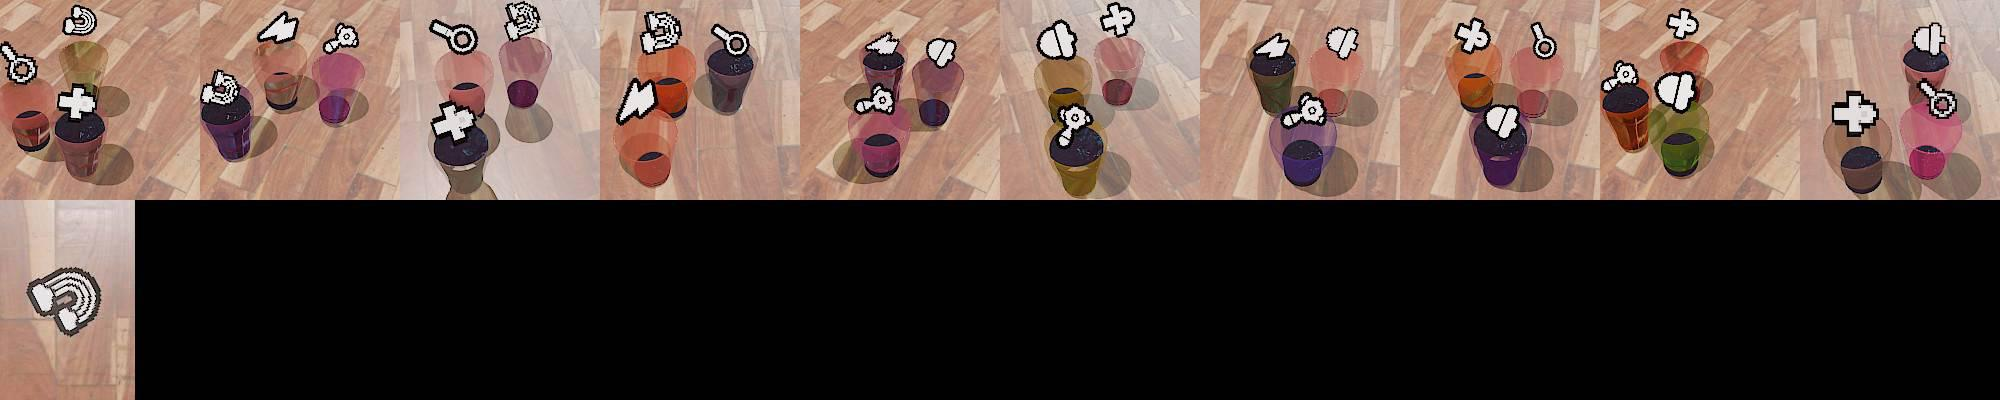icon: (26, 267, 103, 338), (429, 98, 479, 144), (1831, 90, 1880, 135), (615, 76, 659, 125), (639, 10, 683, 56), (429, 19, 480, 58), (1654, 69, 1699, 113), (1600, 60, 1644, 101), (1, 41, 40, 86), (1037, 19, 1078, 61), (1057, 103, 1094, 149), (1281, 92, 1328, 128), (1915, 78, 1956, 118), (503, 1, 542, 42), (55, 82, 98, 119), (255, 10, 300, 45), (201, 68, 241, 107), (853, 82, 897, 116), (710, 23, 749, 60), (1453, 16, 1490, 54), (1912, 20, 1949, 57), (1484, 103, 1522, 139), (1098, 2, 1134, 38), (322, 21, 361, 54), (1324, 25, 1359, 61), (62, 4, 97, 38), (1530, 20, 1558, 62), (1666, 8, 1701, 40), (1254, 31, 1291, 61), (926, 37, 958, 68), (865, 30, 901, 56)
